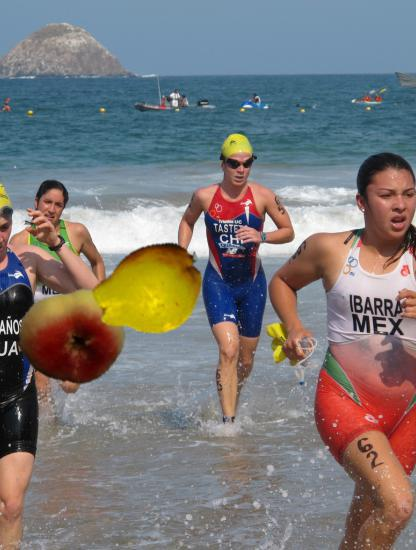Peach: (18, 286, 125, 393)
Quince: (94, 235, 208, 349)
